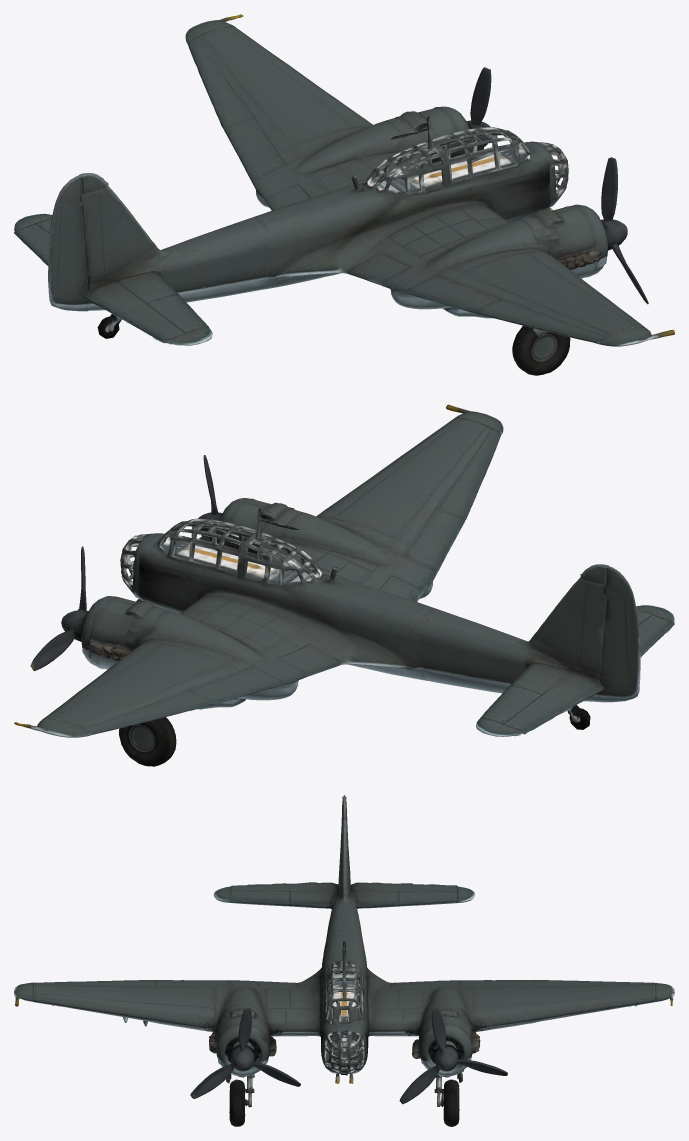
Rendered from prop_ju88.glb.
The picture shows the model from 3 angles, top to bottom: view 1: azimuth 30°, elevation 25°; view 2: azimuth 150°, elevation 25°; view 3: azimuth 270°, elevation 25°; orthographic projection. The views are drawn at different scales.
Visible parts, largest first — view 1: tripo_node_f1208b5e-db44-4c04-8225-cae69c5b0225; view 2: tripo_node_f1208b5e-db44-4c04-8225-cae69c5b0225; view 3: tripo_node_f1208b5e-db44-4c04-8225-cae69c5b0225.
Boxes of the visible parts, x1,y1,x2,y2 form: tripo_node_f1208b5e-db44-4c04-8225-cae69c5b0225: (14, 14, 674, 375); tripo_node_f1208b5e-db44-4c04-8225-cae69c5b0225: (14, 404, 674, 766); tripo_node_f1208b5e-db44-4c04-8225-cae69c5b0225: (14, 795, 674, 1126).
Bounding box in the file's own units: 0.6737 × 0.3023 × 0.9821.
Materials: 1 (1 with a texture image).
